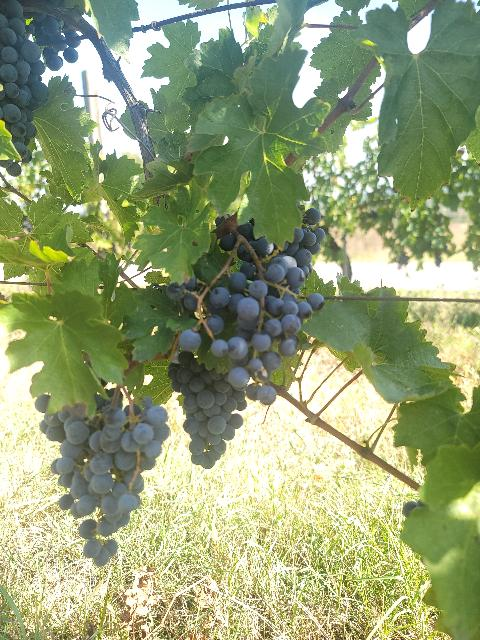grapes: (40, 399, 169, 566), (210, 262, 300, 404), (168, 351, 246, 469)
